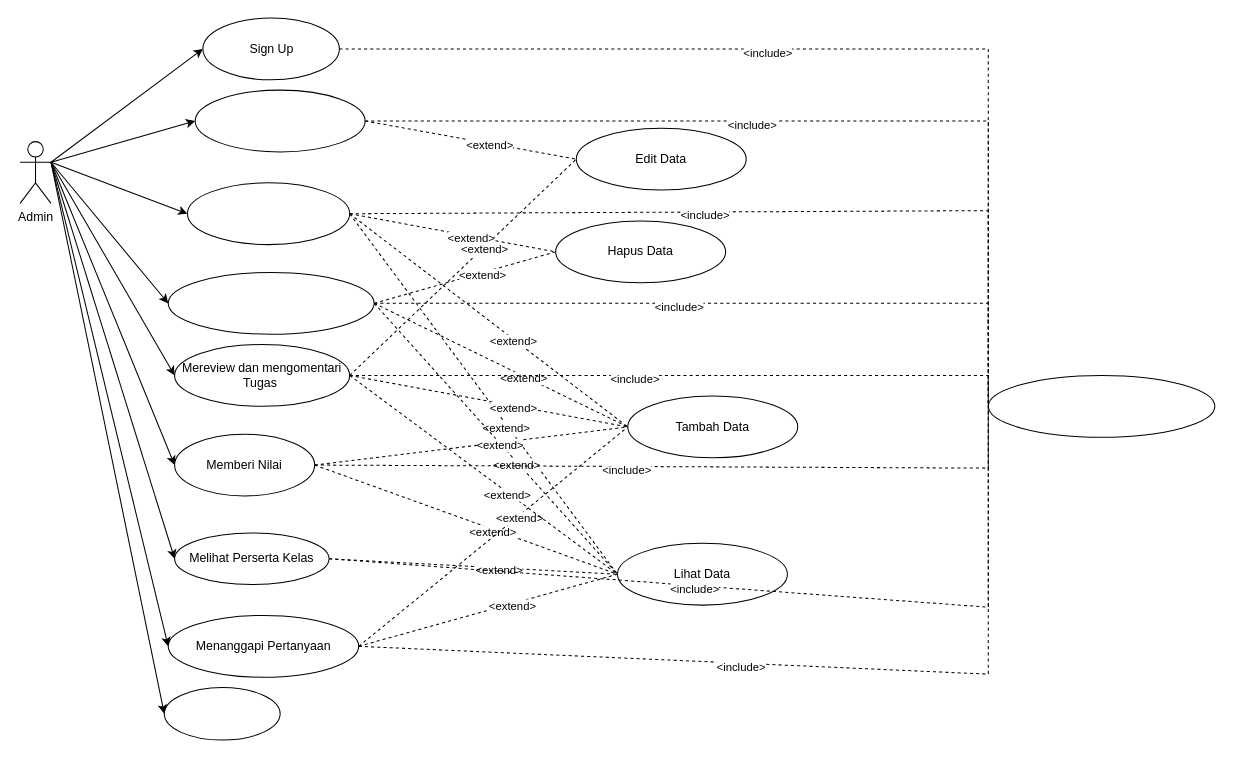
Image size: 1233x758. Some labels were removed from this diagram. Here are the shapes that lost their labels. From the top down, the box of each, then its label:
(194, 89, 365, 152): Mengedit Data Profile Admin
(186, 182, 350, 245): Membuat dan Menghapus kelas
(167, 271, 374, 334): Membuat dan Menghapus Tugas Proyek
(987, 374, 1215, 437): Login
(163, 686, 280, 740): Logout
